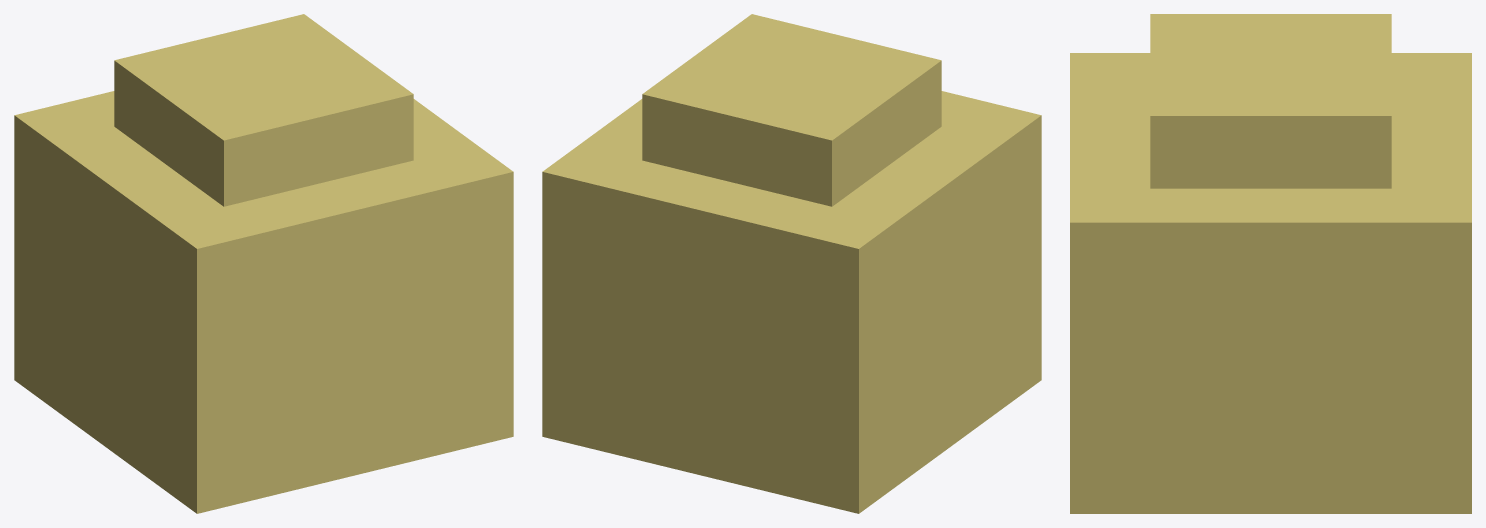
The model's file is Item_DS_Food_Stew_V2.glb.
3 renders of one model, left to right at view 1: azimuth 30°, elevation 25°; view 2: azimuth 150°, elevation 25°; view 3: azimuth 270°, elevation 25°, orthographic. The views are drawn at different scales.
Visible parts, largest first — view 1: Item_DS_Food_Stew_V2; view 2: Item_DS_Food_Stew_V2; view 3: Item_DS_Food_Stew_V2.
Part boxes in pixels (left/top/right/bottom): Item_DS_Food_Stew_V2: left=14, top=14, right=513, bottom=513; Item_DS_Food_Stew_V2: left=542, top=14, right=1041, bottom=513; Item_DS_Food_Stew_V2: left=1070, top=14, right=1471, bottom=513.
Size of the model in its own units: 0.26 by 0.26 by 0.26.
